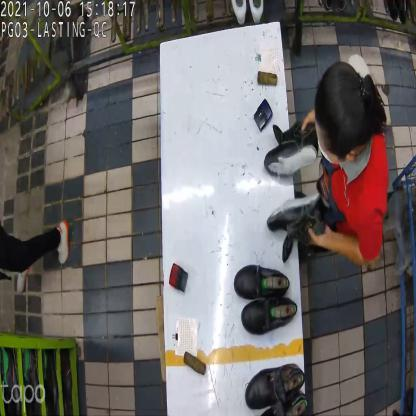shoes: (265, 124, 324, 262), (230, 263, 298, 336), (245, 361, 308, 416)
stamp: (170, 262, 191, 296), (253, 98, 274, 131)
